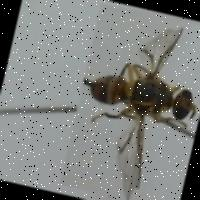Oriental-fruit-fly: (58, 1, 200, 200)
